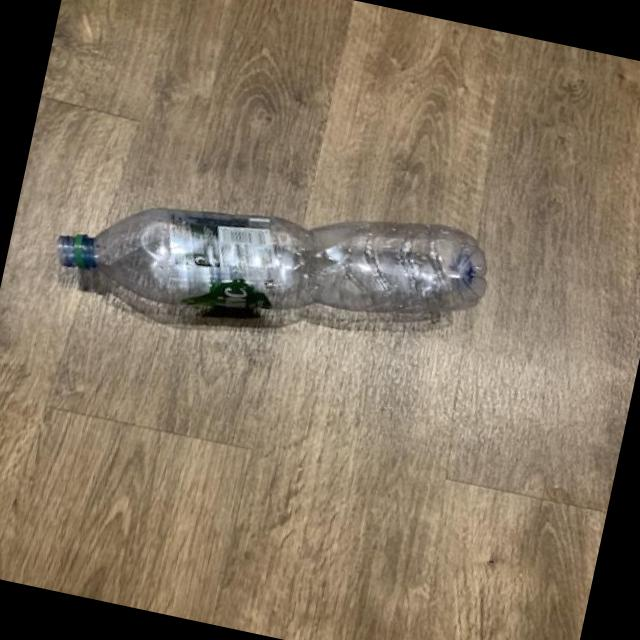plastic_bottle: (49, 147, 498, 368)
